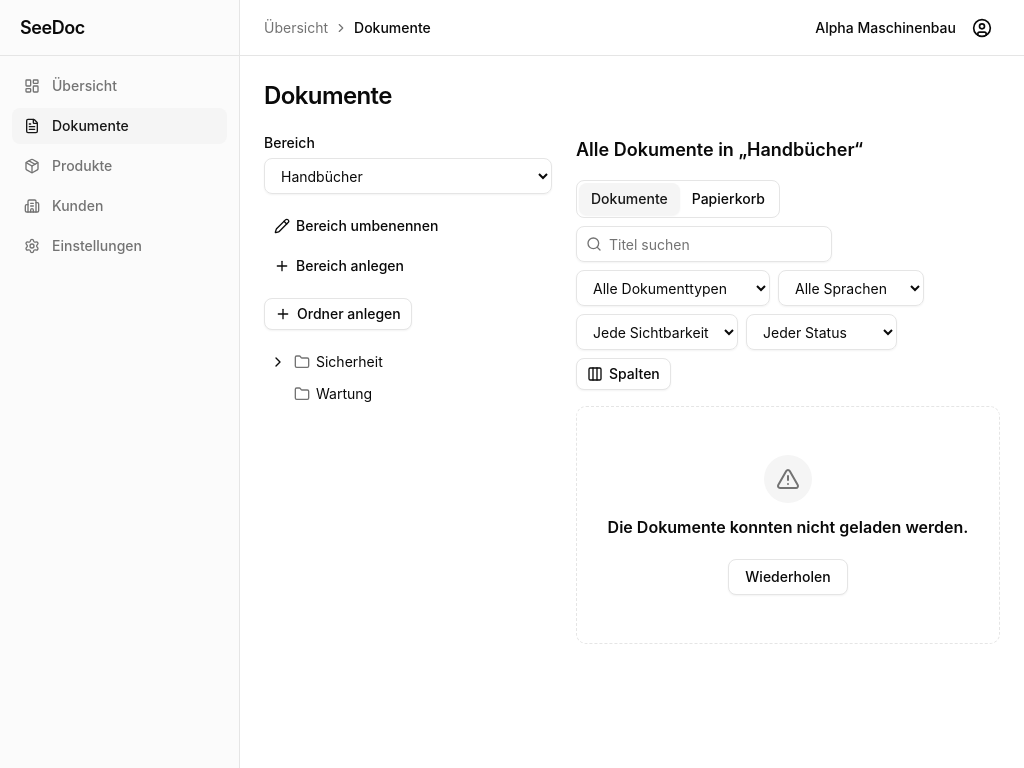
Test case: DocumentsPage › selects a folder into the URL and shows its path
The width and height of the screenshot is (1024, 768).
Click the text "Wartung".
click(344, 394)  # box left=316, top=384, right=372, bottom=404
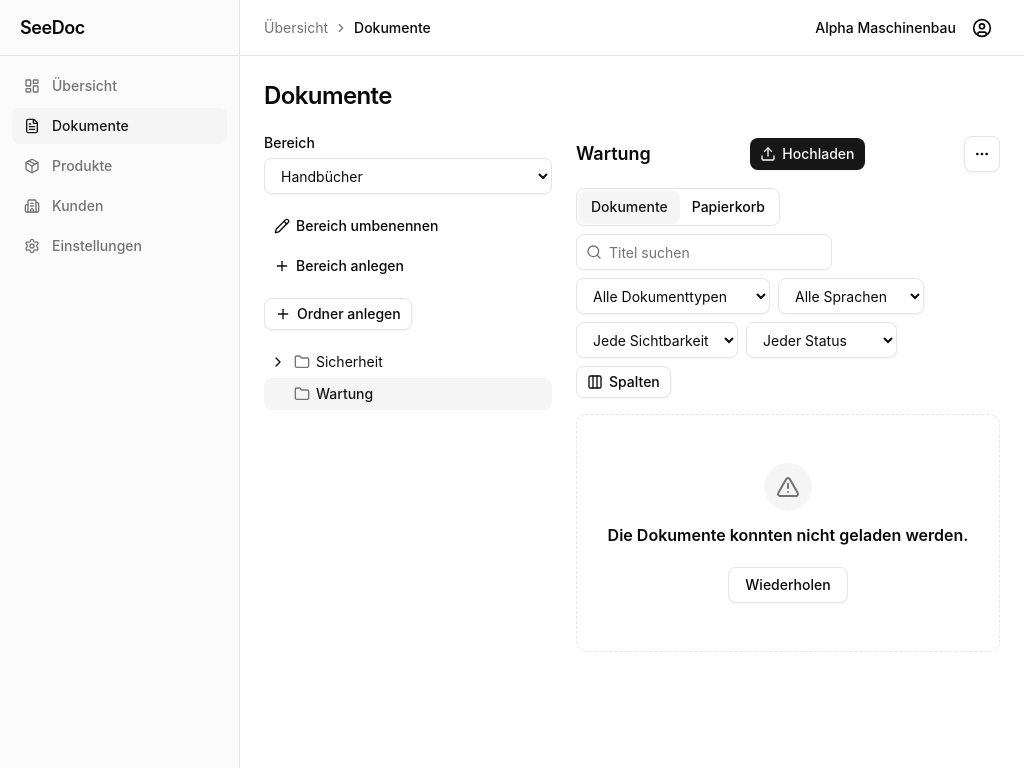
Now the heading "Wartung" is shown, box left=576, top=140, right=651, bottom=168
